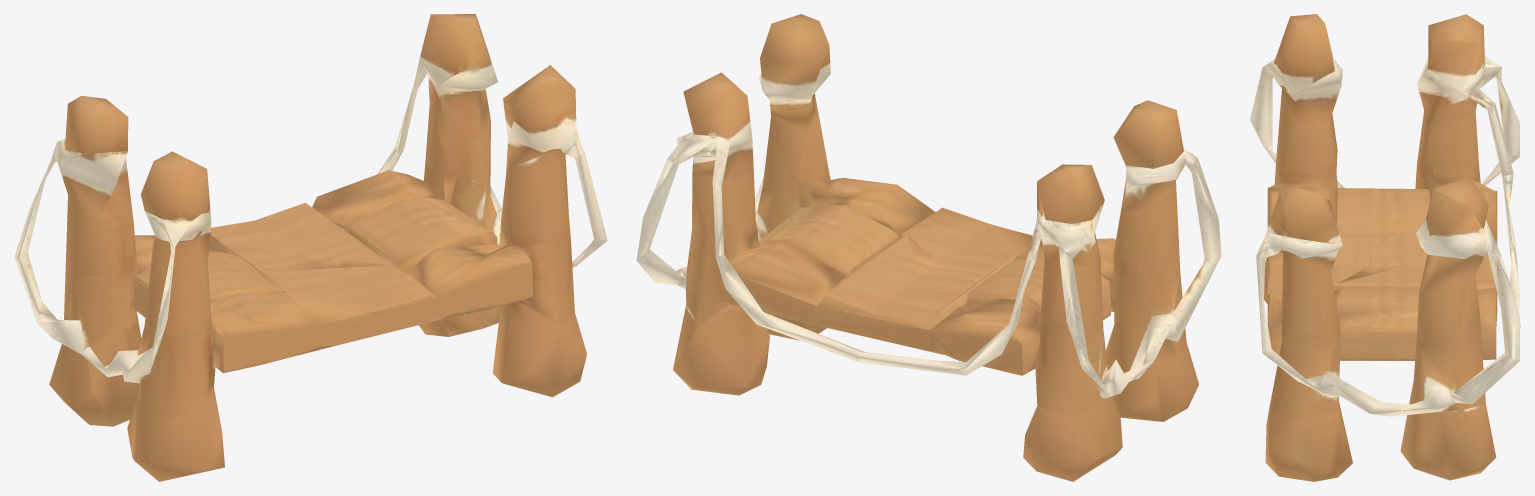
File: s1_gen_wood_bridge.glb
The picture shows the model from 3 angles, left to right: view 1: azimuth 30°, elevation 25°; view 2: azimuth 150°, elevation 25°; view 3: azimuth 270°, elevation 25°; orthographic projection. The views are drawn at different scales.
Bounding box in the file's own units: 1.88 × 1.21 × 1.03.
1 material, 1 textured.
